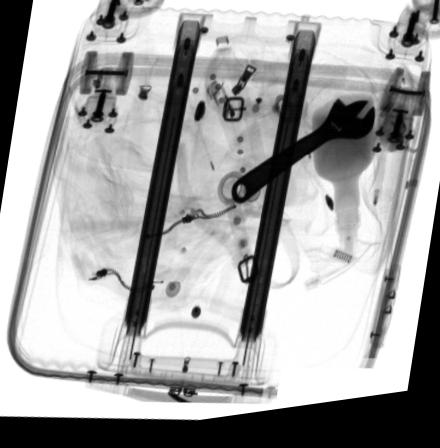Wrench: (230, 106, 375, 210)
